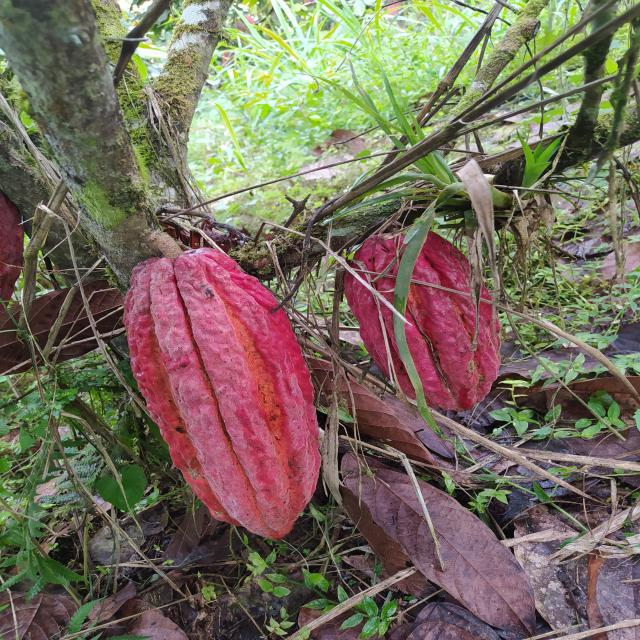Sana: (122, 245, 320, 542), (342, 228, 502, 413)
